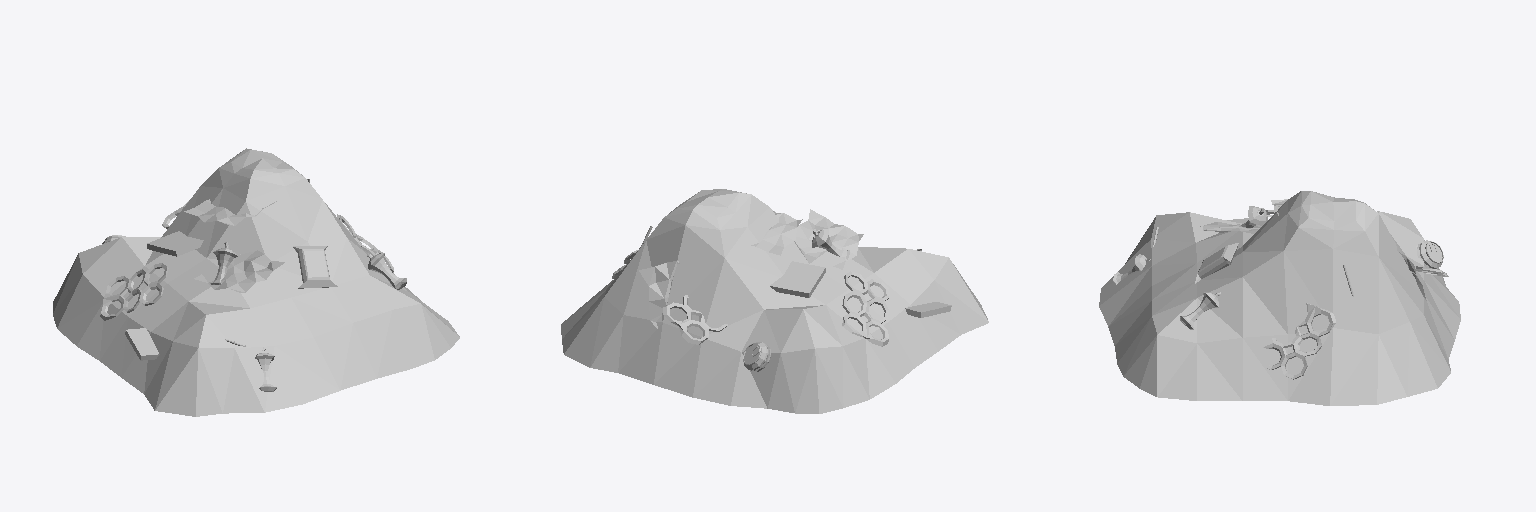
File: garbageMaximum.obj
3 views of the same model, side by side, from view 1: azimuth 30°, elevation 25°; view 2: azimuth 150°, elevation 25°; view 3: azimuth 270°, elevation 25° (orthographic).
Bounding box in the file's own units: 6.19 × 2.62 × 6.01.